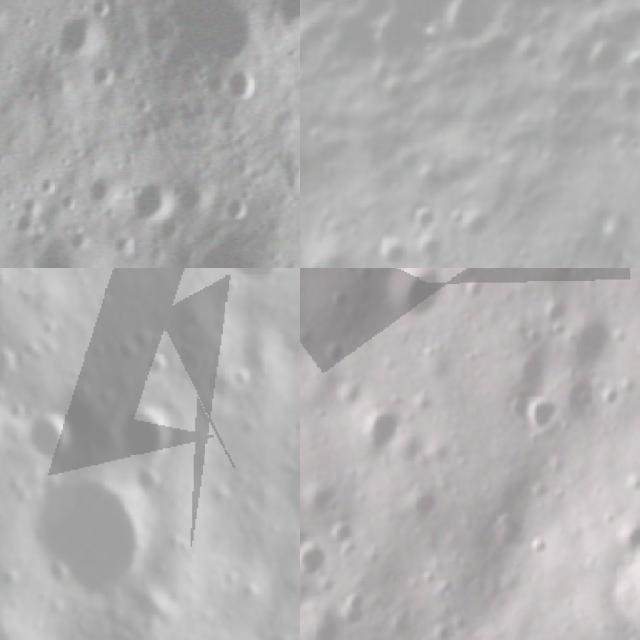crater: (28, 474, 149, 610), (156, 0, 267, 63), (106, 399, 181, 476), (150, 225, 284, 268), (355, 0, 435, 71), (424, 0, 512, 62), (377, 268, 454, 331), (554, 310, 620, 383), (603, 520, 640, 640), (347, 399, 411, 465), (576, 22, 638, 89), (19, 408, 79, 468), (552, 71, 608, 131), (53, 11, 108, 59), (126, 170, 172, 223), (456, 202, 504, 252), (168, 168, 216, 217), (363, 226, 419, 268), (516, 390, 562, 440), (504, 345, 550, 393), (402, 224, 451, 268), (27, 237, 96, 268), (524, 0, 571, 43), (300, 534, 339, 585), (604, 71, 640, 125), (220, 63, 263, 104), (214, 268, 291, 290), (312, 328, 350, 371), (603, 517, 640, 561), (406, 200, 446, 240), (335, 592, 376, 630), (84, 168, 119, 211), (572, 0, 623, 25), (380, 610, 418, 640), (442, 201, 471, 232), (85, 62, 118, 89), (619, 47, 640, 89), (421, 618, 461, 640), (528, 534, 556, 562), (321, 268, 372, 279), (0, 0, 13, 33), (638, 5, 640, 51)
